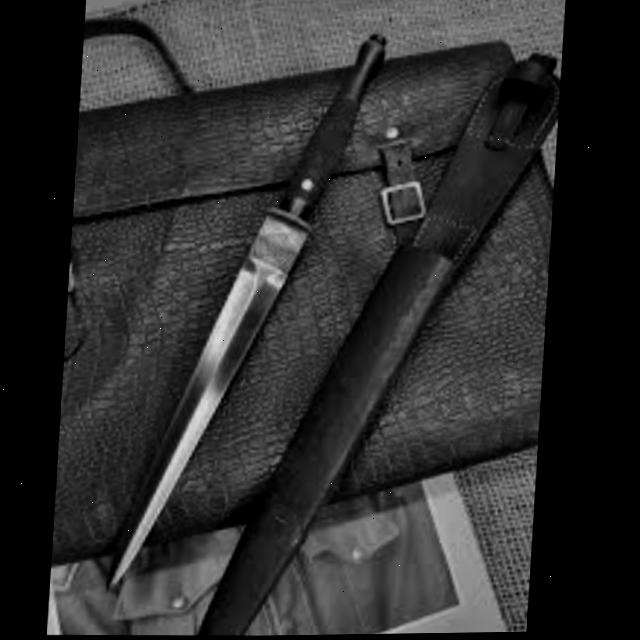knife: (197, 43, 562, 637), (109, 29, 385, 593)
